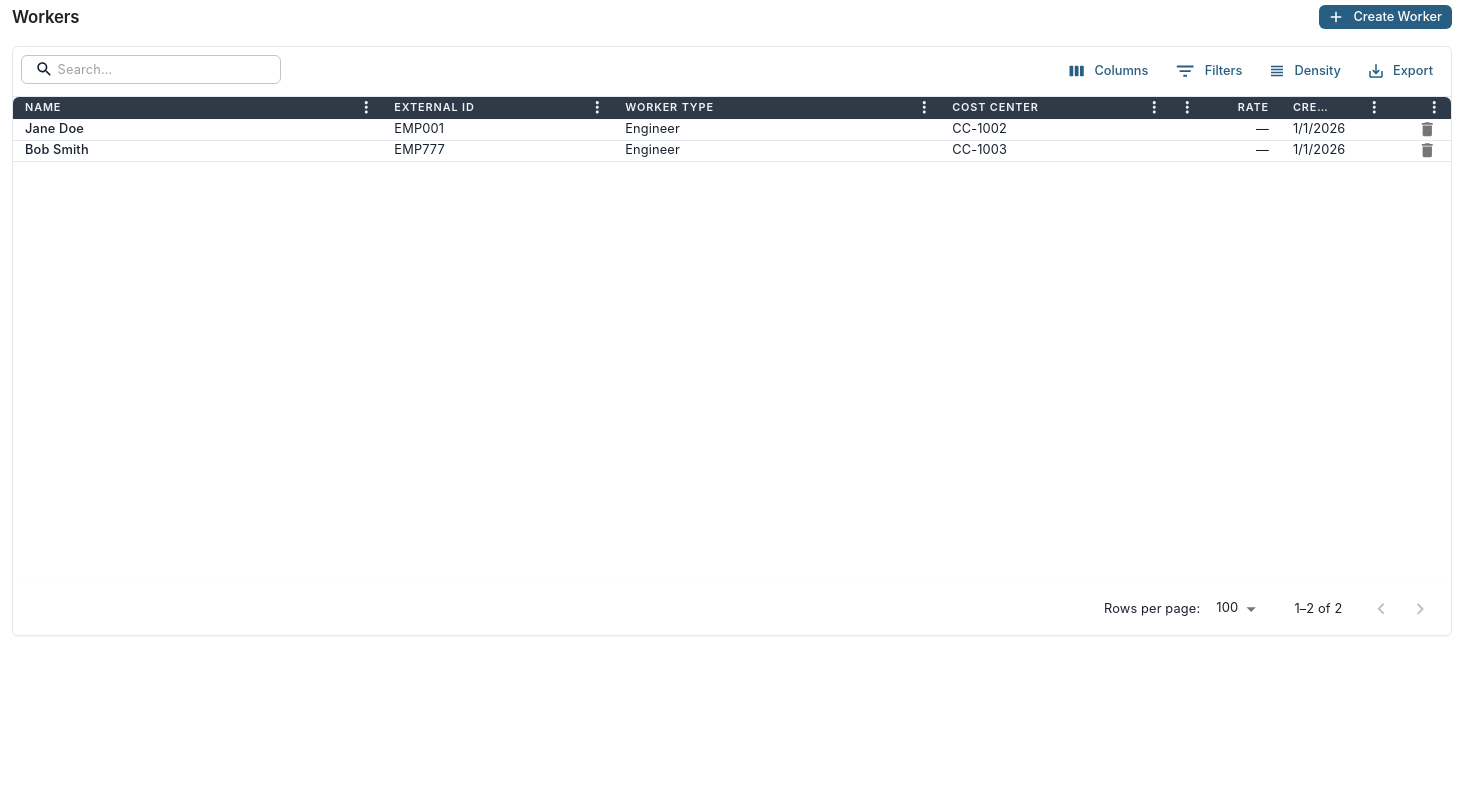
WorkersListPage (grid) › quick-filter narrows by name and highlights the match
Expected: the text "Jane Doe" is shown, x1=25 y1=120 x2=84 y2=139
Expected: the text "Bob Smith" is shown, x1=25 y1=141 x2=89 y2=160
Type "Jane" into the search field with placeholder "Search…". click: (148, 69)
box: x1=58 y1=55 x2=238 y2=84
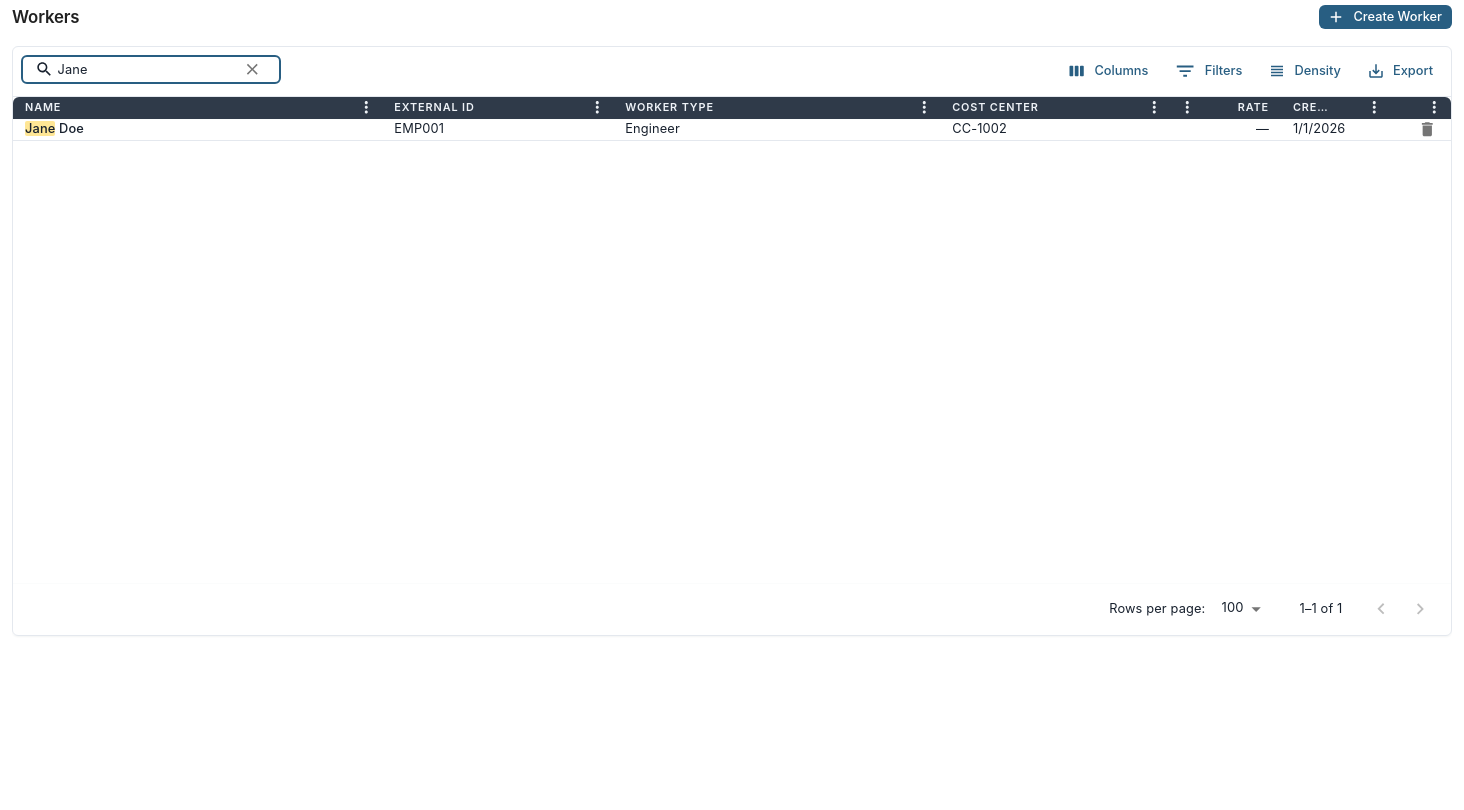
Expected: the text "Jane" is shown, x1=25 y1=121 x2=56 y2=136
Expected: the text "Bob Smith" is gone
